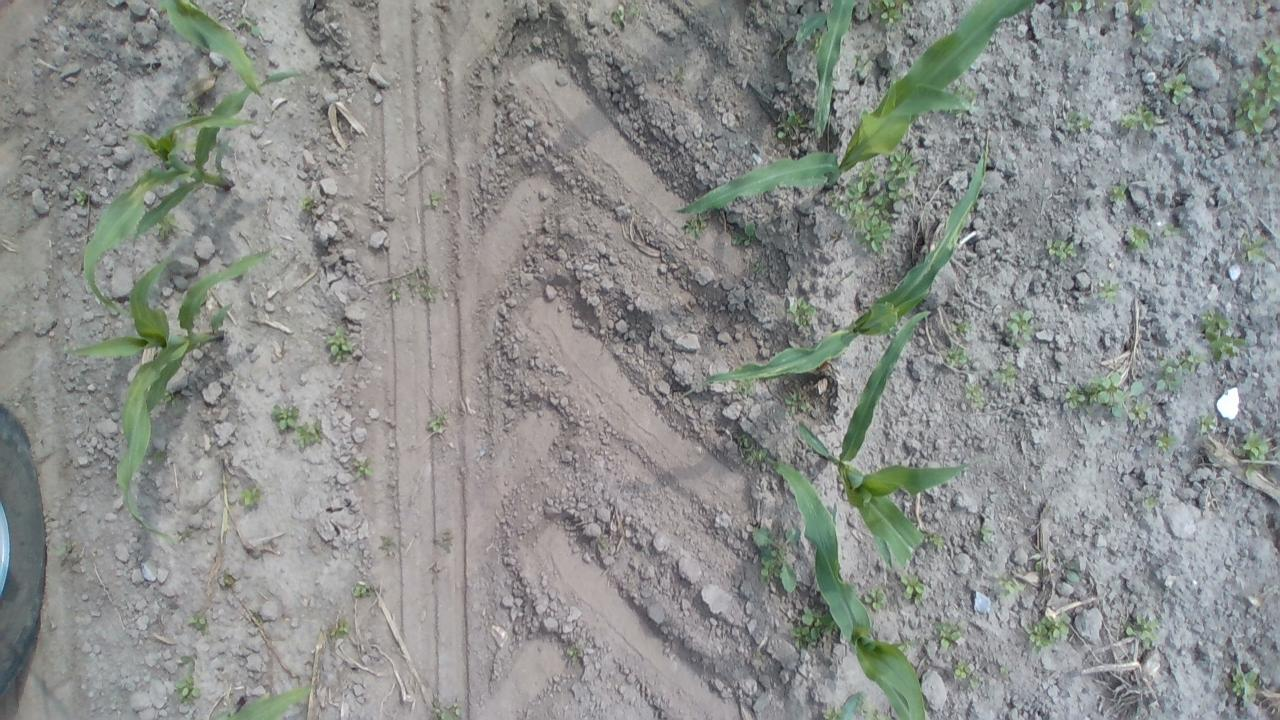Maize: (700, 128, 996, 393), (59, 241, 275, 540), (678, 24, 999, 225), (79, 65, 308, 319), (793, 308, 980, 578), (768, 460, 940, 720), (793, 0, 863, 135), (162, 26, 270, 103), (202, 681, 322, 720)
Weeds: (830, 144, 926, 253), (1234, 38, 1280, 135), (748, 518, 802, 598), (1062, 376, 1146, 415), (1197, 306, 1246, 367), (1152, 351, 1204, 396), (378, 271, 438, 309), (789, 603, 842, 646), (1030, 611, 1076, 652), (1111, 106, 1165, 140), (1236, 429, 1270, 480), (781, 292, 818, 335), (1003, 306, 1037, 350), (1040, 554, 1086, 586), (928, 615, 968, 650), (1230, 658, 1259, 704), (322, 326, 358, 362), (1056, 108, 1094, 141), (1130, 0, 1157, 45), (773, 106, 804, 144), (1126, 614, 1161, 647), (738, 432, 769, 469), (268, 400, 302, 433), (1038, 236, 1078, 264), (1160, 72, 1196, 103), (784, 380, 815, 415), (1118, 224, 1155, 252), (859, 582, 892, 613), (681, 209, 716, 238), (869, 1, 908, 26), (1241, 232, 1268, 268), (990, 570, 1026, 597), (429, 696, 467, 720), (1192, 409, 1221, 438), (925, 526, 949, 561), (174, 678, 207, 703), (733, 220, 761, 249), (960, 382, 989, 409), (1092, 280, 1122, 306), (898, 571, 923, 602), (296, 419, 324, 446), (941, 346, 972, 370), (1106, 176, 1130, 206), (1126, 401, 1154, 426), (237, 481, 261, 510), (326, 618, 354, 642), (1151, 430, 1177, 455), (607, 4, 634, 28), (996, 364, 1023, 388), (350, 456, 375, 481), (426, 410, 451, 435), (951, 660, 976, 685), (1138, 492, 1164, 516), (349, 578, 376, 601), (726, 378, 757, 398), (68, 186, 95, 208), (1060, 0, 1104, 13), (48, 541, 76, 561), (186, 612, 211, 634), (974, 524, 999, 546), (1160, 220, 1184, 242), (298, 194, 320, 217), (591, 528, 609, 554), (435, 526, 453, 552), (1259, 150, 1278, 174), (420, 188, 444, 207), (378, 536, 400, 556), (954, 316, 974, 338), (565, 642, 582, 661), (998, 660, 1012, 682)
